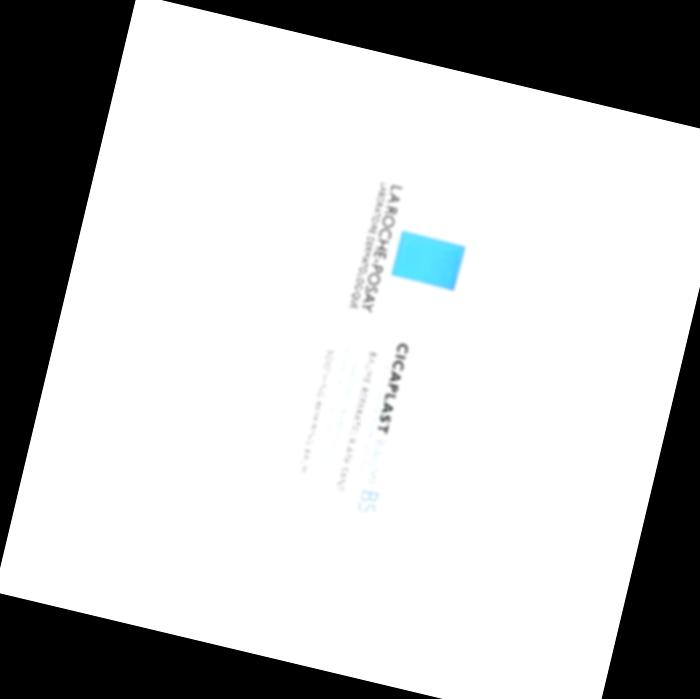cosmetic: (198, 95, 538, 650)
